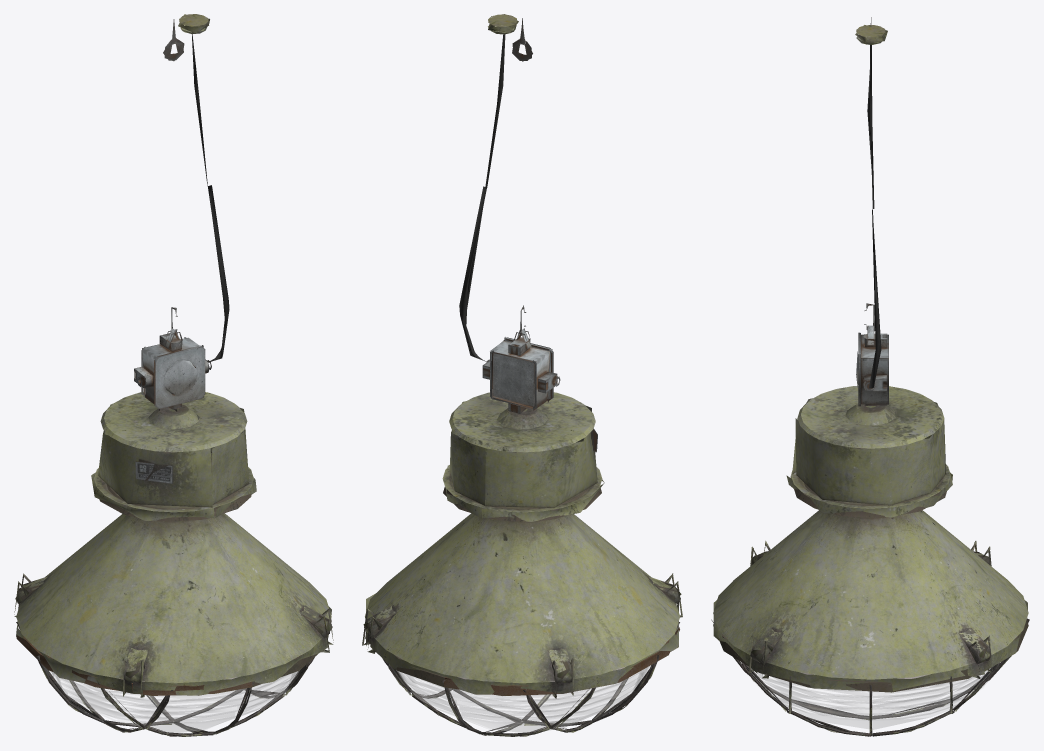
File: hanging_industrial_lamp_game.gltf
3 renders of one model, left to right at view 1: azimuth 30°, elevation 25°; view 2: azimuth 150°, elevation 25°; view 3: azimuth 270°, elevation 25°, orthographic.
Parts seen in each view (by area): view 1: hanging_industrial_lamp; view 2: hanging_industrial_lamp; view 3: hanging_industrial_lamp.
Part boxes in pixels (x1,y1,x2,y2): hanging_industrial_lamp: [14, 14, 333, 736]; hanging_industrial_lamp: [362, 14, 682, 736]; hanging_industrial_lamp: [711, 17, 1029, 736].
Size of the model in its own units: 0.5538 by 1.36 by 0.5552.
Materials: 2 (1 with a texture image).
